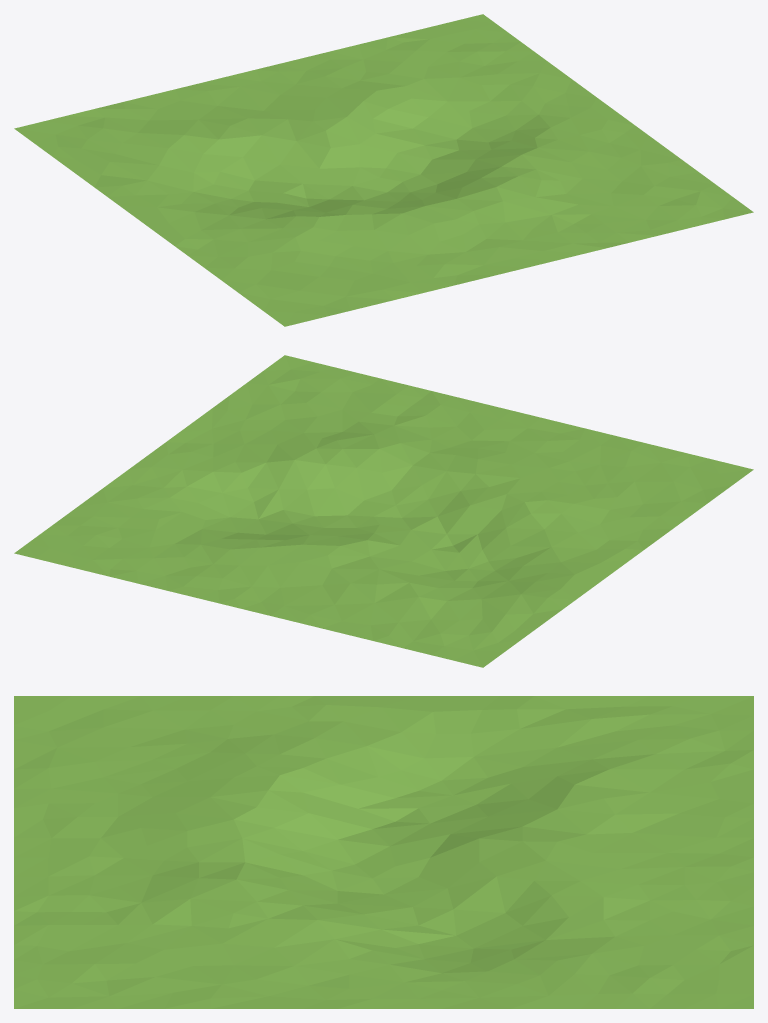
Rendered from MT_Terrain_M_b_06_LOD.fbx.
3 views of the same model, one above another, from view 1: azimuth 30°, elevation 25°; view 2: azimuth 150°, elevation 25°; view 3: azimuth 270°, elevation 25° (orthographic). The views are drawn at different scales.
Visible parts, largest first — view 1: MT_Terrain_M_b_06_LOD0; view 2: MT_Terrain_M_b_06_LOD0; view 3: MT_Terrain_M_b_06_LOD0.
Boxes of the visible parts, left/top/right/bottom form: MT_Terrain_M_b_06_LOD0: left=14, top=14, right=753, bottom=326; MT_Terrain_M_b_06_LOD0: left=14, top=355, right=753, bottom=667; MT_Terrain_M_b_06_LOD0: left=14, top=696, right=753, bottom=1008.
Size of what is drawn, in the model's own units: 5000 by 224 by 5000.
